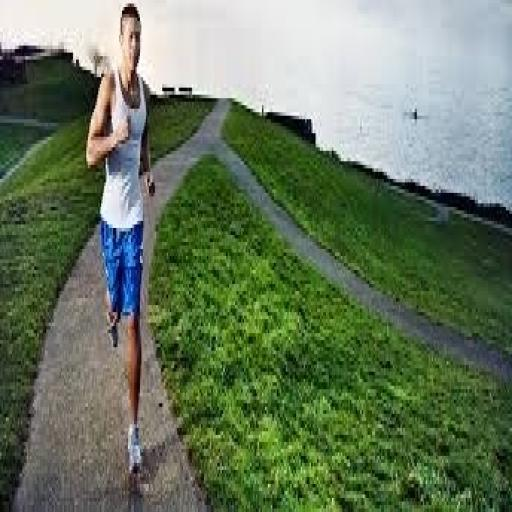running: (83, 0, 157, 480)
